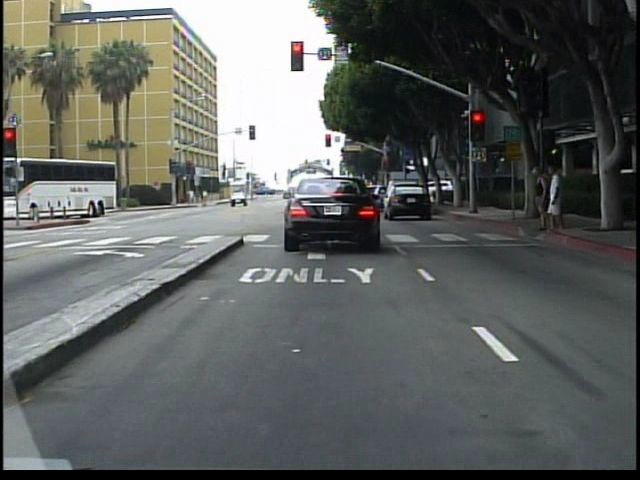person: (545, 164, 569, 238), (527, 163, 549, 234)
